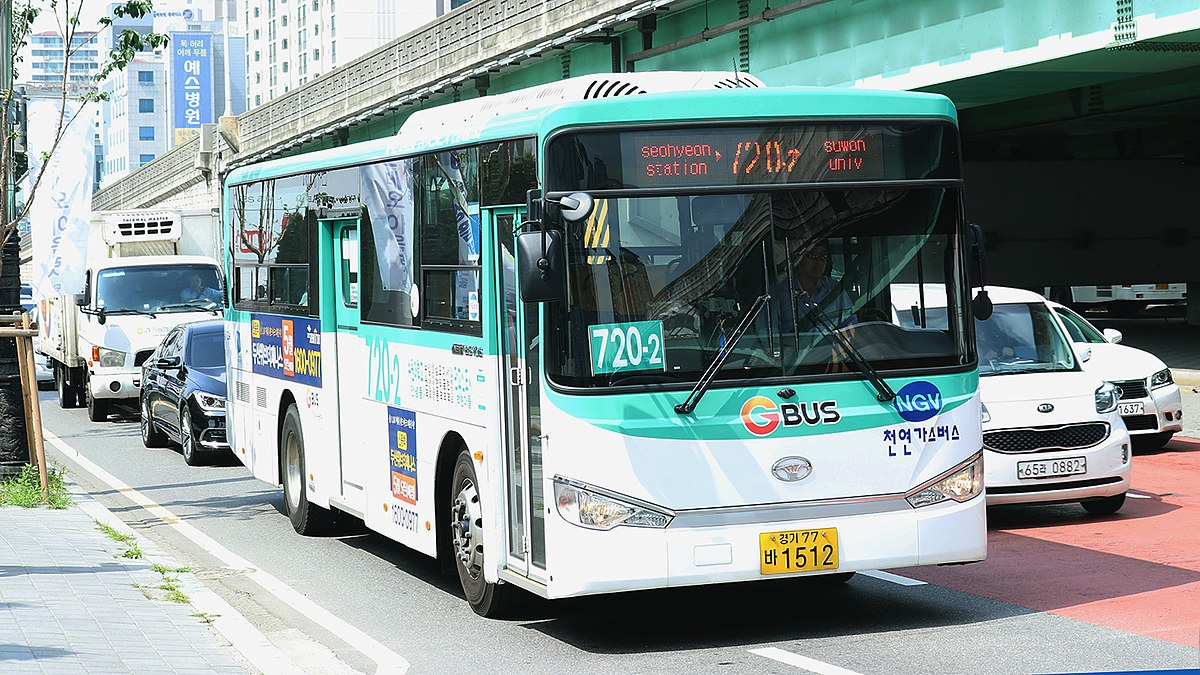bnum: (586, 323, 666, 371)
